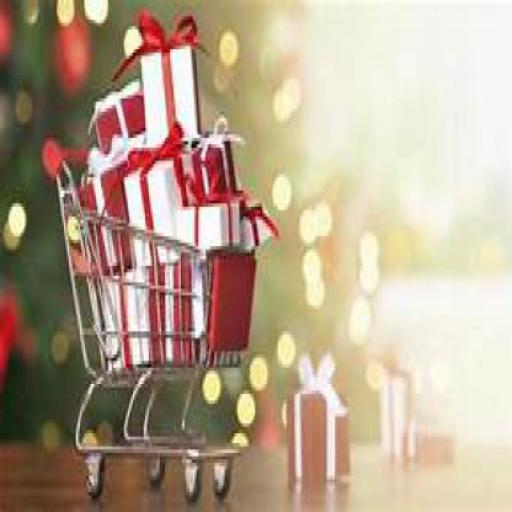shopping_cart: (40, 141, 258, 500)
